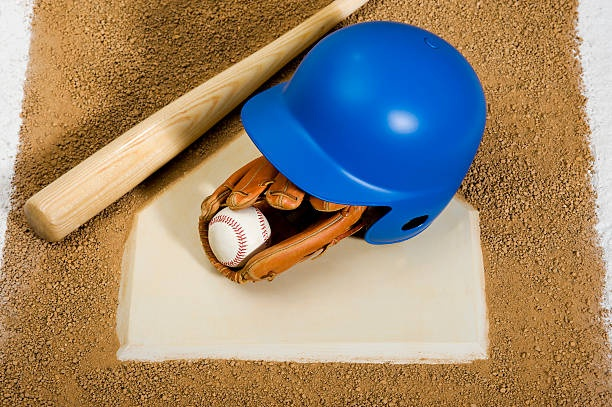bita: (24, 1, 354, 242)
